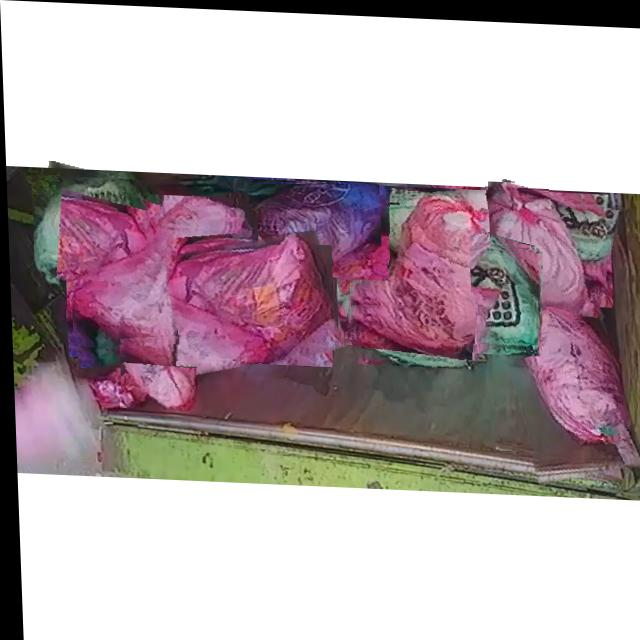general_trashbag: (32, 178, 148, 278), (344, 301, 474, 364), (468, 243, 534, 343)
other_trashbag: (71, 195, 246, 354), (489, 289, 636, 459), (347, 186, 504, 339), (163, 229, 331, 360), (488, 177, 597, 311), (239, 180, 378, 273), (469, 246, 540, 349), (116, 334, 193, 409)
